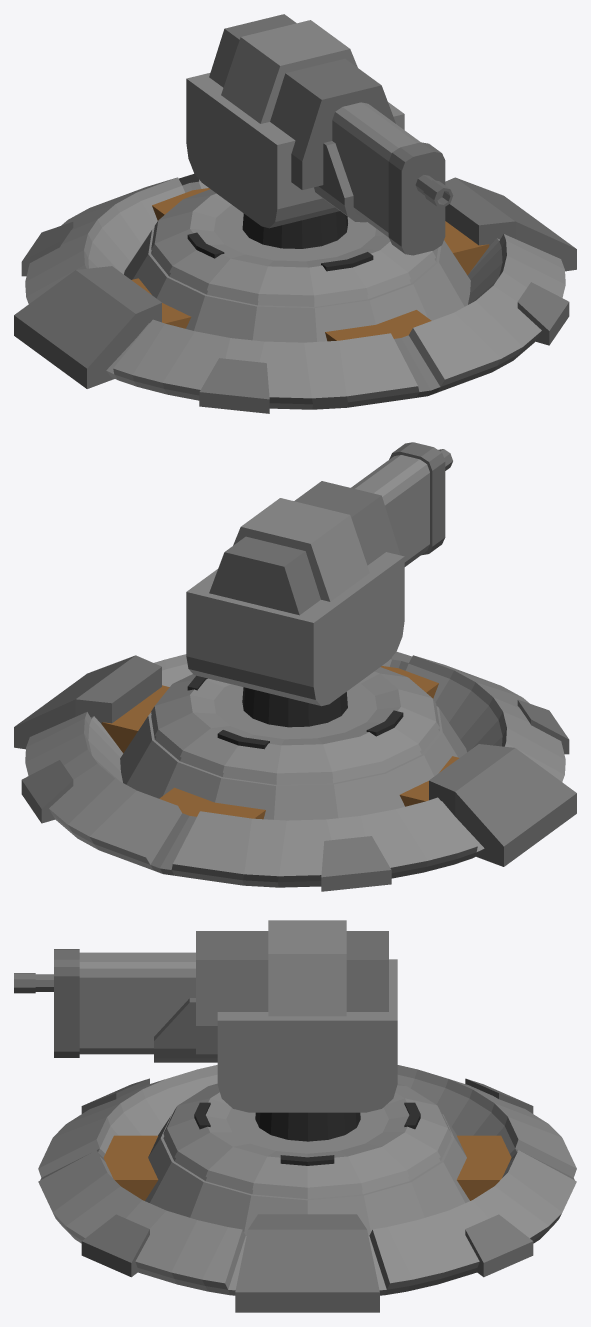
The model's file is Turret Gun.glb.
3 renders of one model, top to bottom at view 1: azimuth 30°, elevation 25°; view 2: azimuth 150°, elevation 25°; view 3: azimuth 270°, elevation 25°, orthographic.
Visible parts, largest first — view 1: Turret_Gun_Base, Turret_Gun_Top; view 2: Turret_Gun_Base, Turret_Gun_Top; view 3: Turret_Gun_Base, Turret_Gun_Top.
Part boxes in pixels (x1,y1,x2,y2): Turret_Gun_Base: (14,173,576,413); Turret_Gun_Top: (186,14,453,255); Turret_Gun_Base: (14,651,576,891); Turret_Gun_Top: (186,442,452,727); Turret_Gun_Base: (38,1065,576,1312); Turret_Gun_Top: (14,920,397,1141).
Size of the model in its own units: 1.16 by 0.587 by 1.16.
